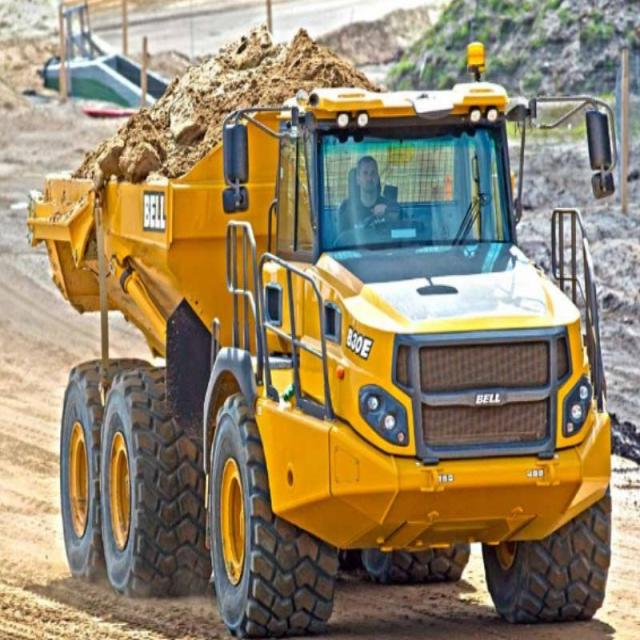dump_truck: (39, 23, 618, 626)
